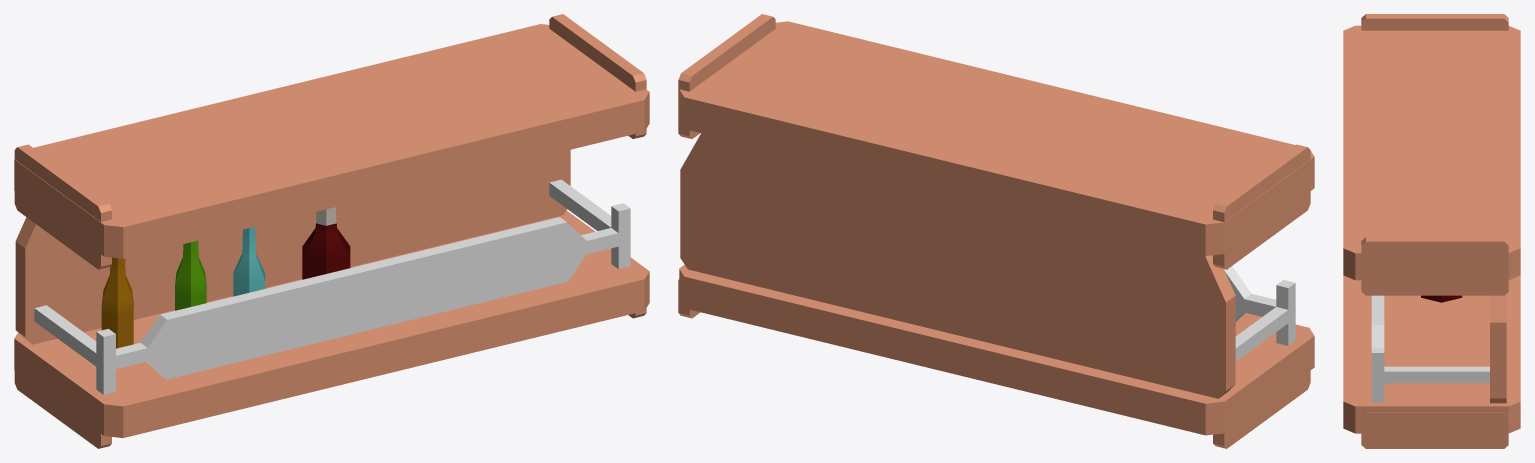
Rendered from Bottle_Stand.fbx.
3 views of the same model, side by side, from view 1: azimuth 30°, elevation 25°; view 2: azimuth 150°, elevation 25°; view 3: azimuth 270°, elevation 25° (orthographic). The views are drawn at different scales.
Visible parts, largest first — view 1: Bottle_Stand, Uper_Stand, Bottle2, Bottle5, Bottle4, Bottle3; view 2: Bottle_Stand, Uper_Stand; view 3: Uper_Stand, Bottle_Stand, Bottle2.
Part boxes in pixels (x1,y1,x2,y2): Bottle_Stand: [14, 150, 649, 448]; Uper_Stand: [14, 14, 649, 269]; Bottle2: [302, 207, 350, 279]; Bottle5: [101, 257, 133, 348]; Bottle4: [175, 240, 206, 310]; Bottle3: [233, 227, 265, 296]; Bottle_Stand: [678, 133, 1314, 448]; Uper_Stand: [678, 14, 1314, 269]; Uper_Stand: [1343, 14, 1520, 295]; Bottle_Stand: [1343, 275, 1520, 448]; Bottle2: [1421, 295, 1462, 302].
Size of the model in its own units: 5.74 by 2.43 by 1.89.
